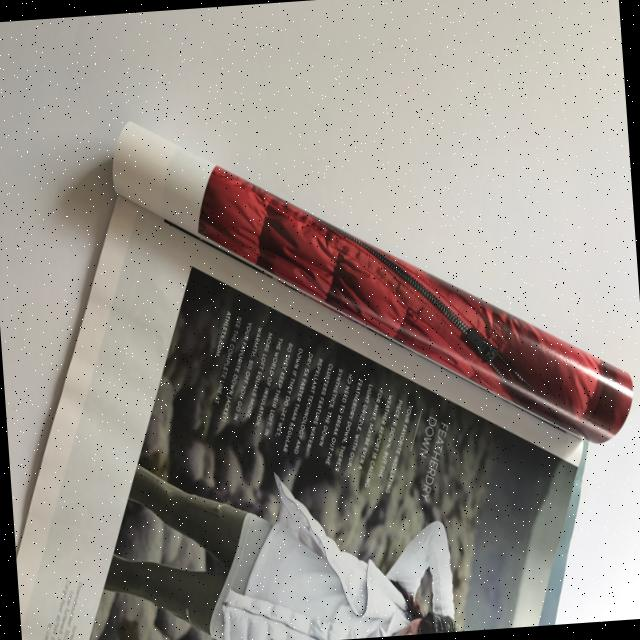paper: (0, 84, 640, 640)
